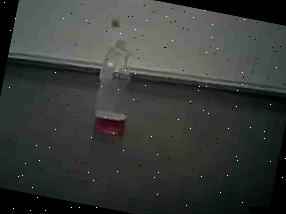hazard: (86, 14, 150, 144)
